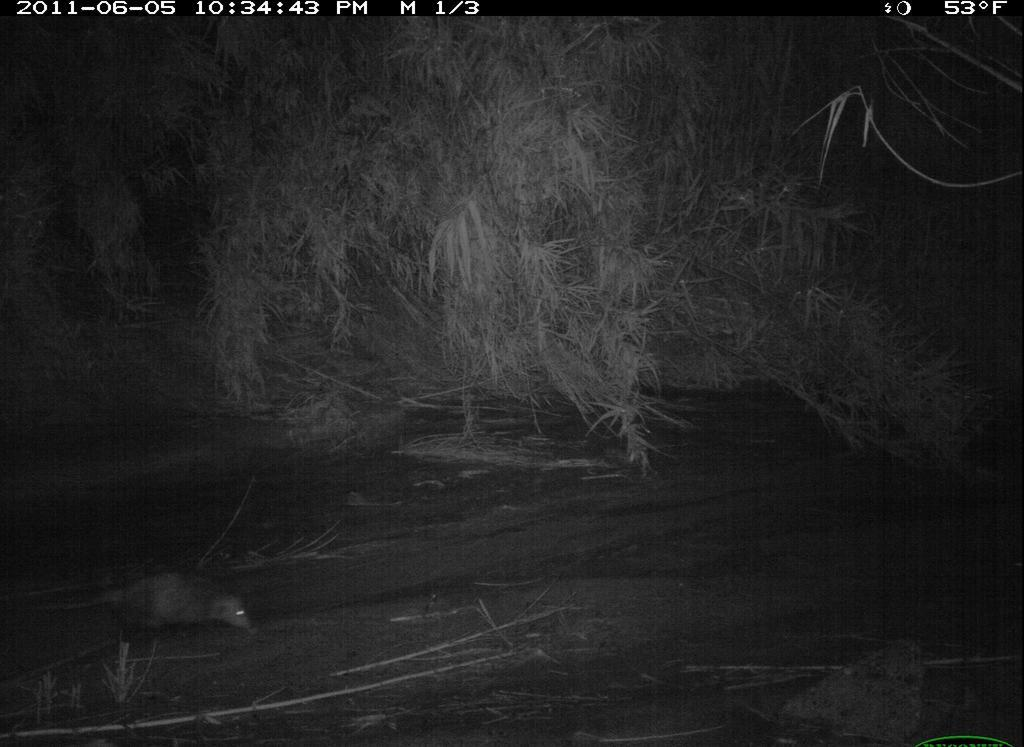opossum: (31, 548, 257, 643)
